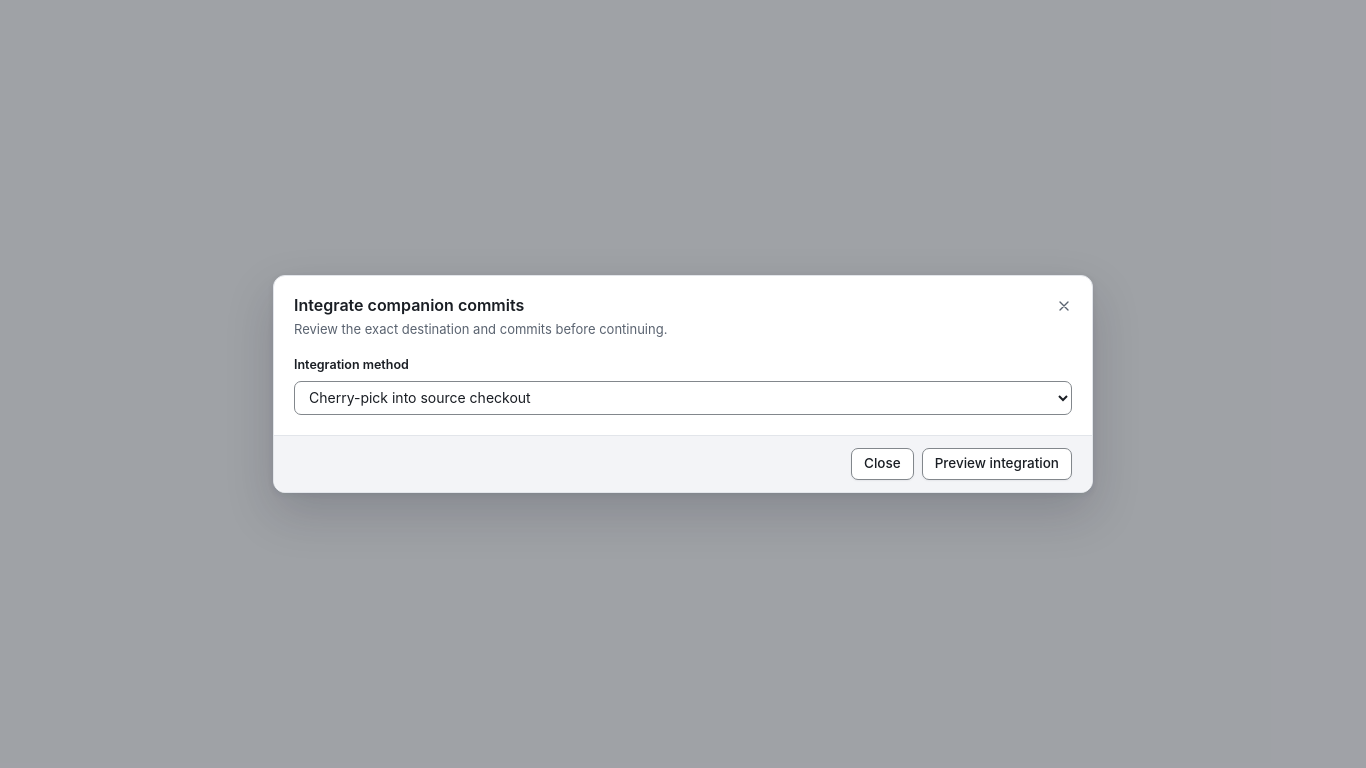
Test case: blocks cherry-pick when an ignored destination file would be overwritten
Click the button "Preview integration". click: click(997, 464)
box: 922,448 -> 1072,480
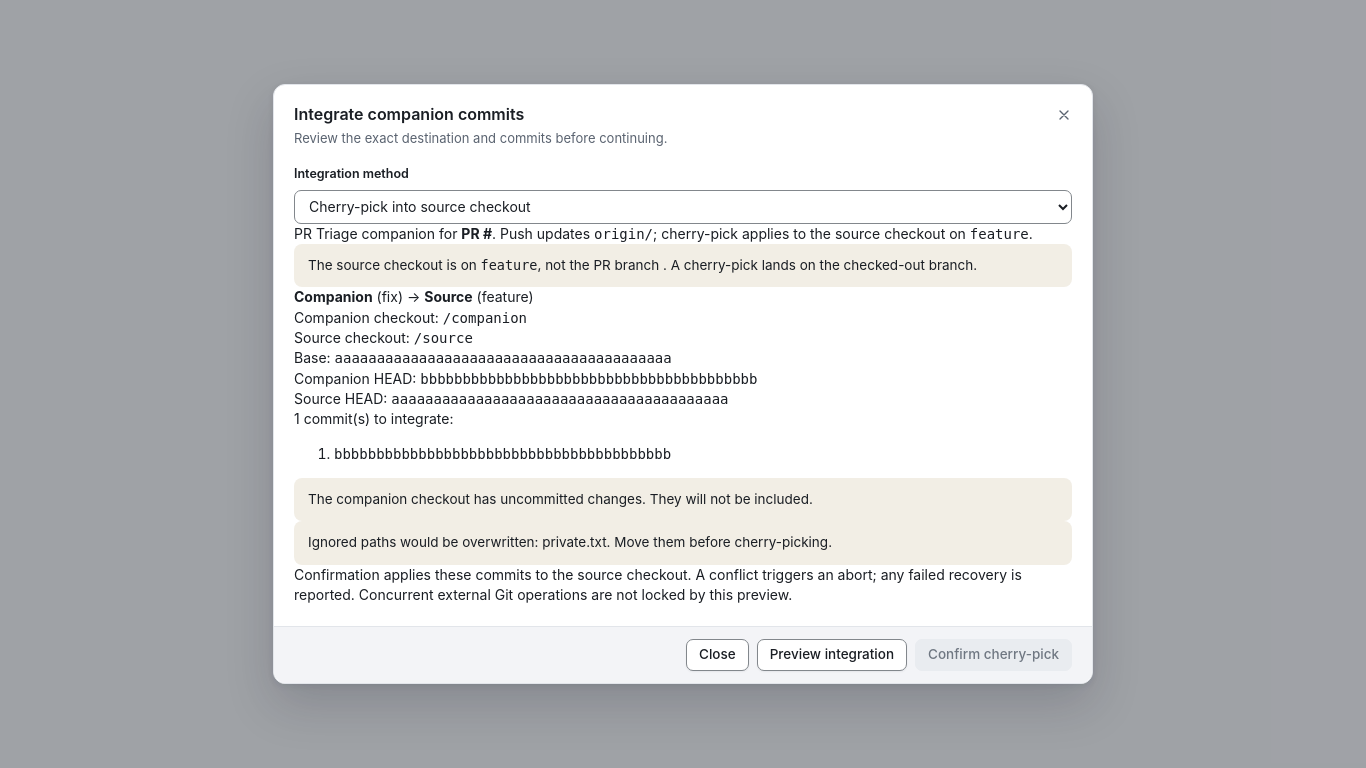
Check: the text "Ignored paths would be overwritten: private.txt" is shown, box 294,521 -> 1072,565
Check: the button "Confirm cherry-pick" is disabled, box 915,638 -> 1072,670
